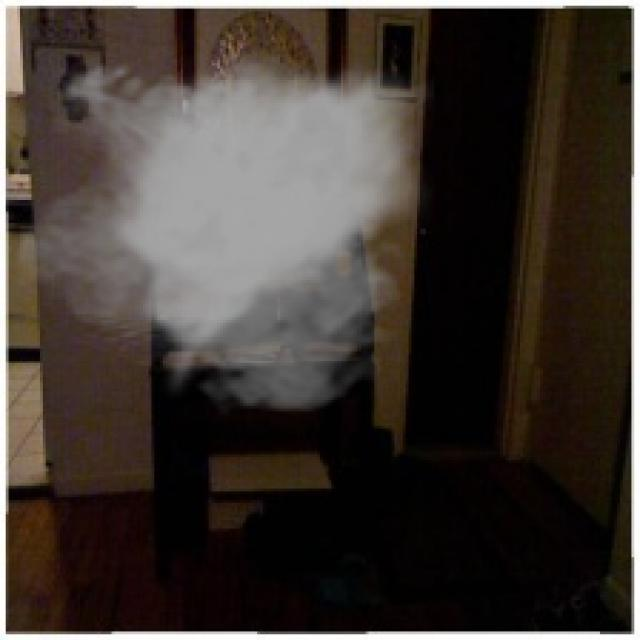Smoke: (14, 52, 434, 417)
